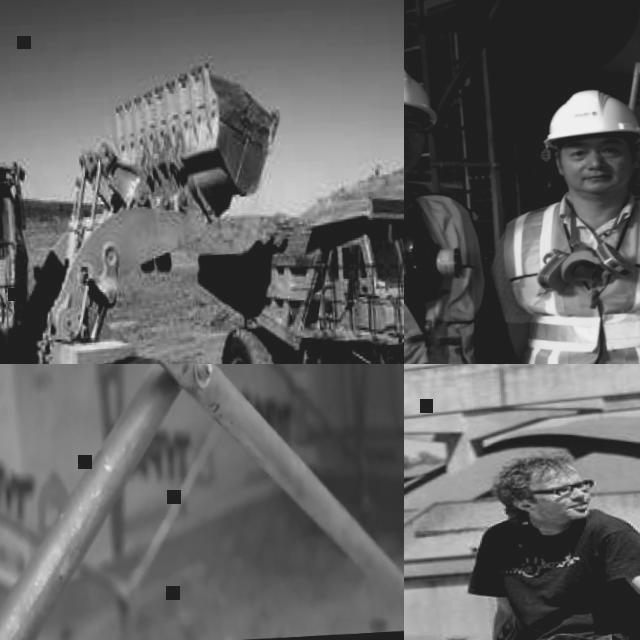helmet: (535, 86, 640, 148), (404, 58, 443, 123)
machinery: (0, 49, 313, 364), (191, 170, 404, 364)
no_helmet: (496, 452, 579, 490)
no_mask: (531, 495, 594, 524), (570, 166, 626, 196), (404, 145, 425, 175)
no_vest: (484, 503, 640, 640)
person: (404, 439, 640, 640), (479, 72, 640, 364), (404, 49, 536, 364)
vest: (499, 192, 640, 364), (404, 175, 503, 364)
